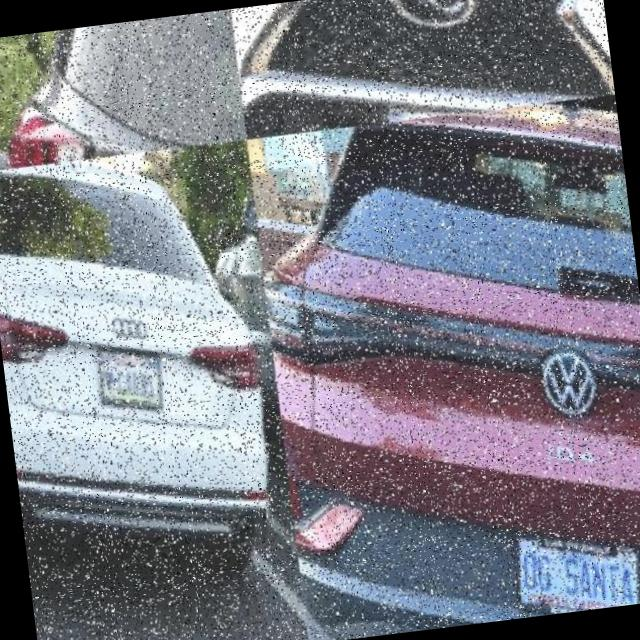LicensePlate: (504, 526, 632, 611), (83, 326, 164, 411)
